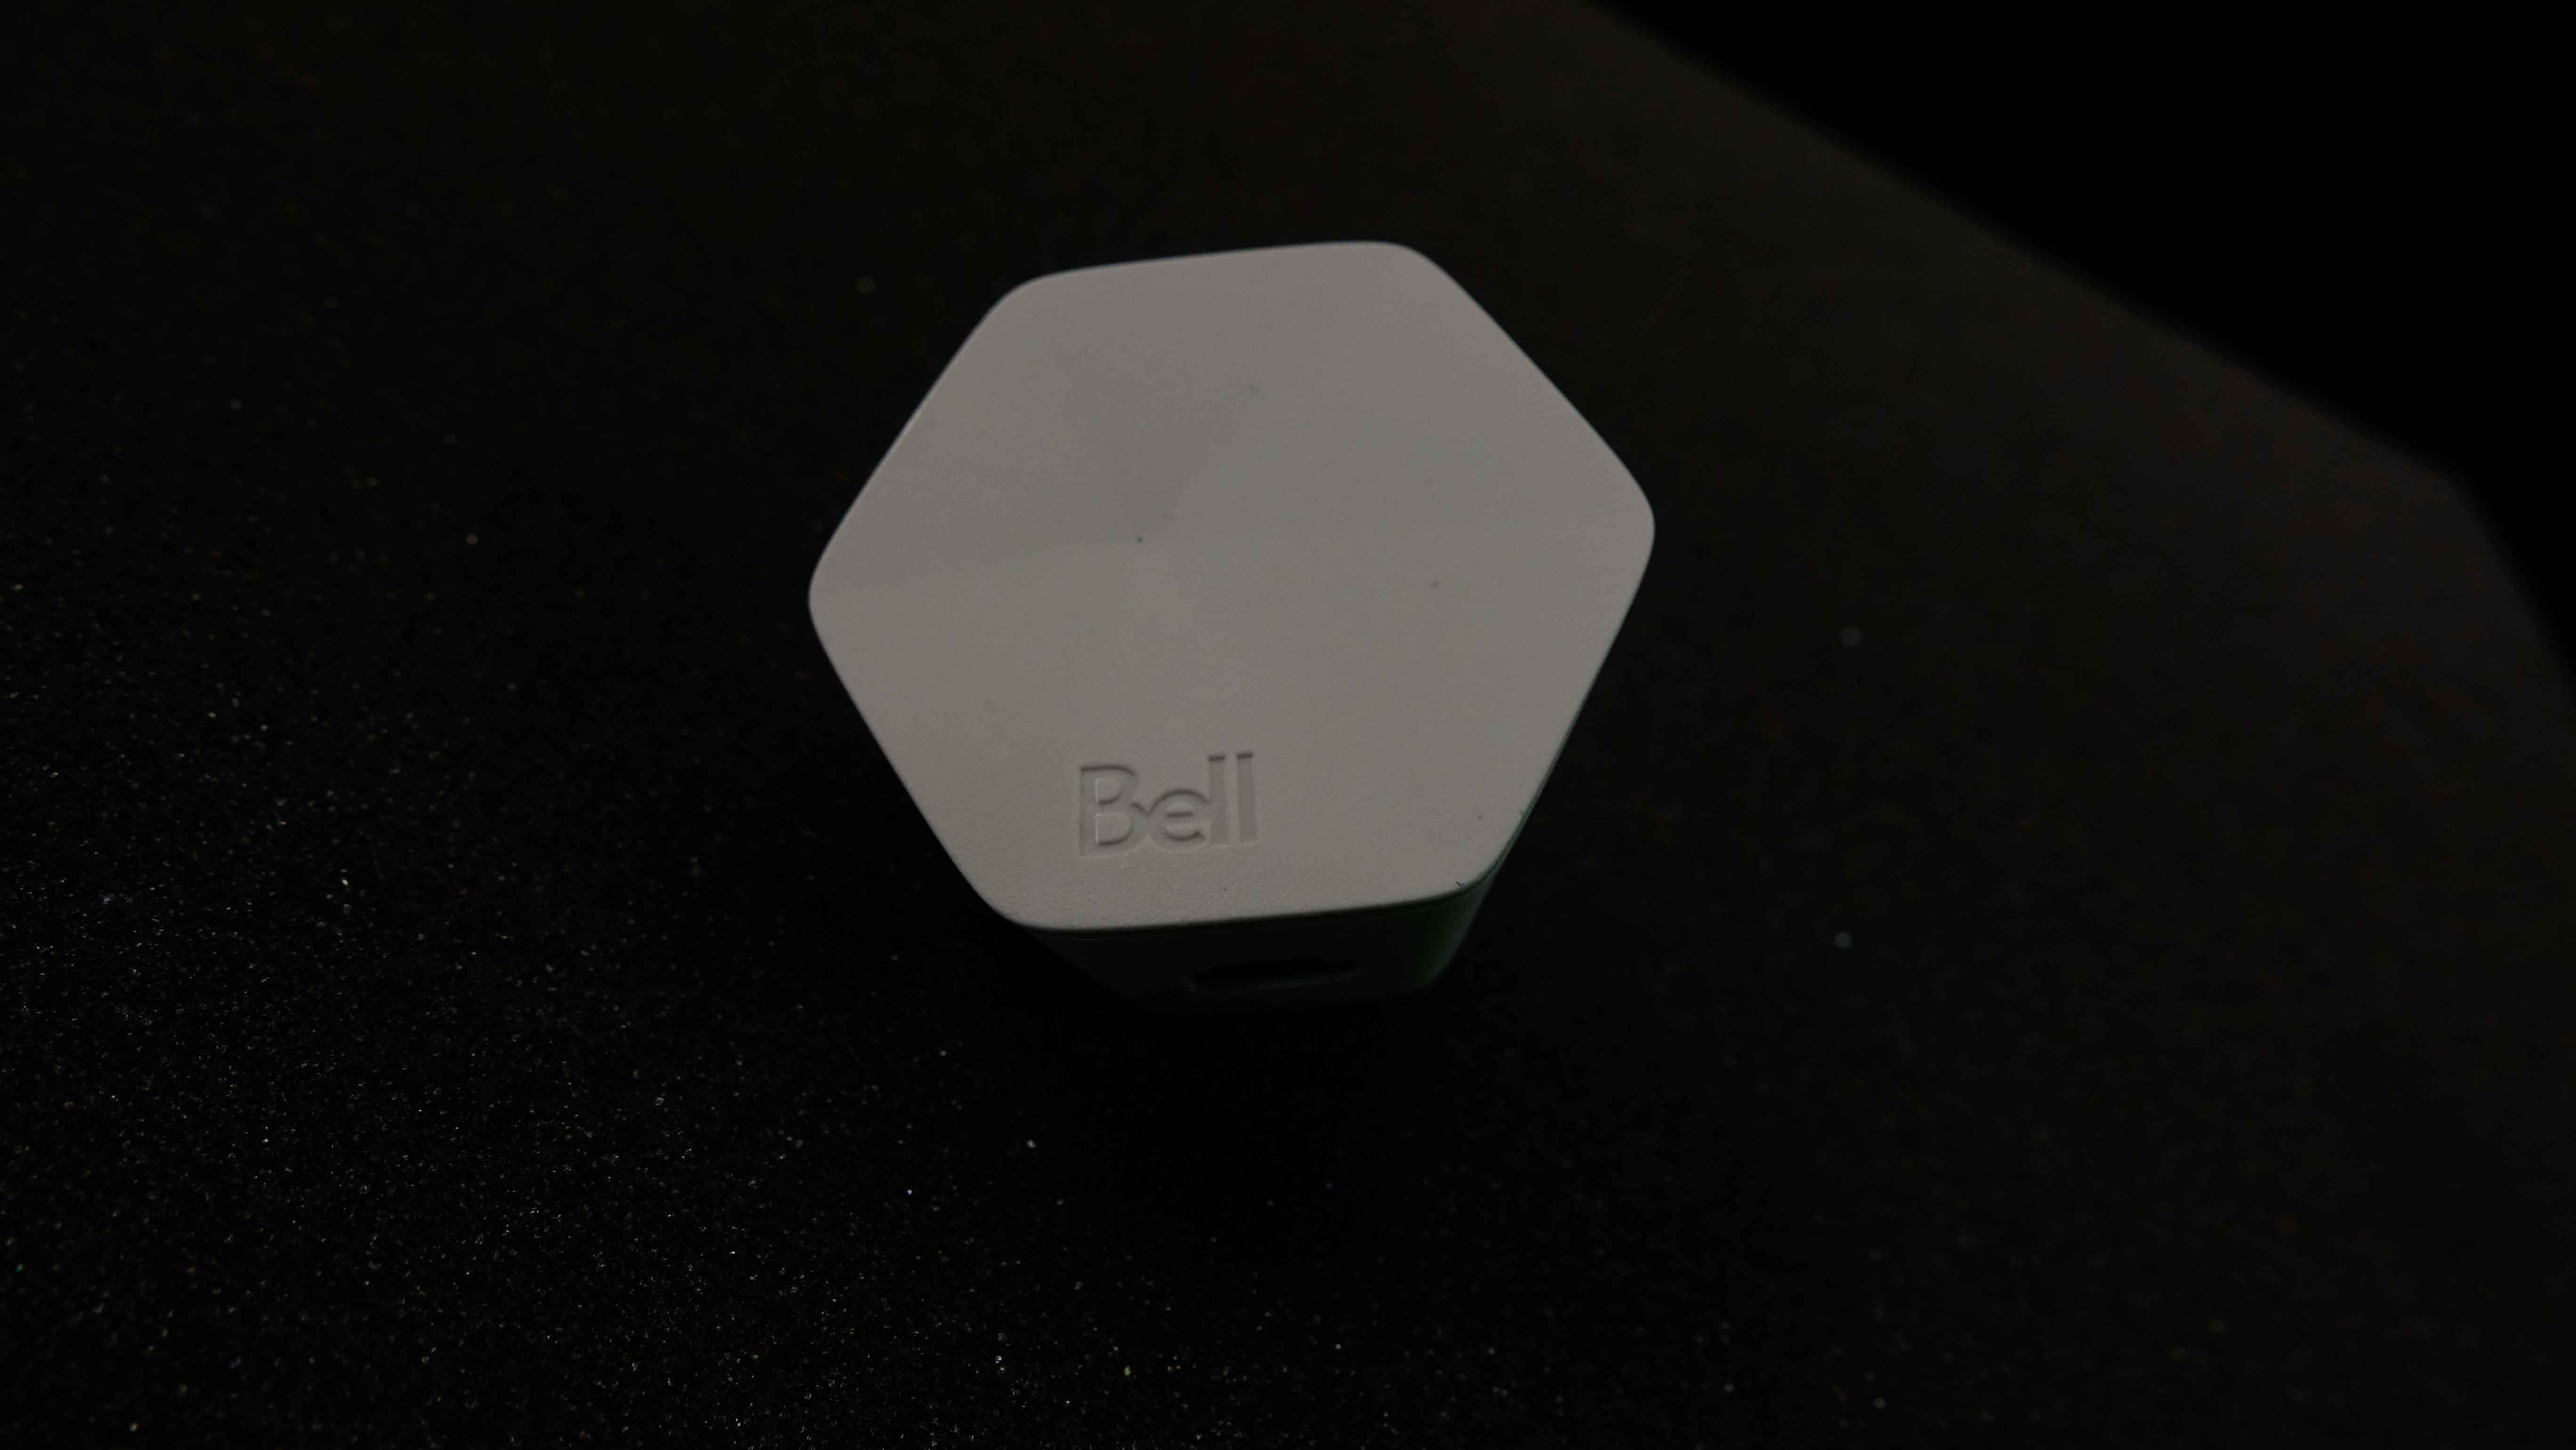pod: (800, 239, 1663, 1029)
